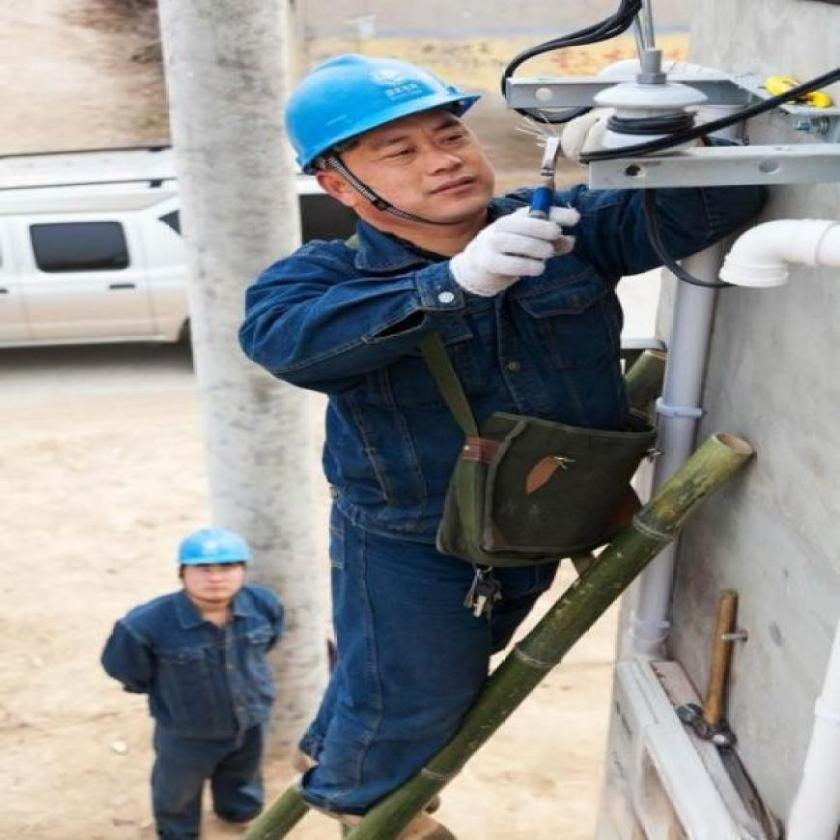Con_casco: (282, 20, 502, 238), (169, 514, 249, 610)
